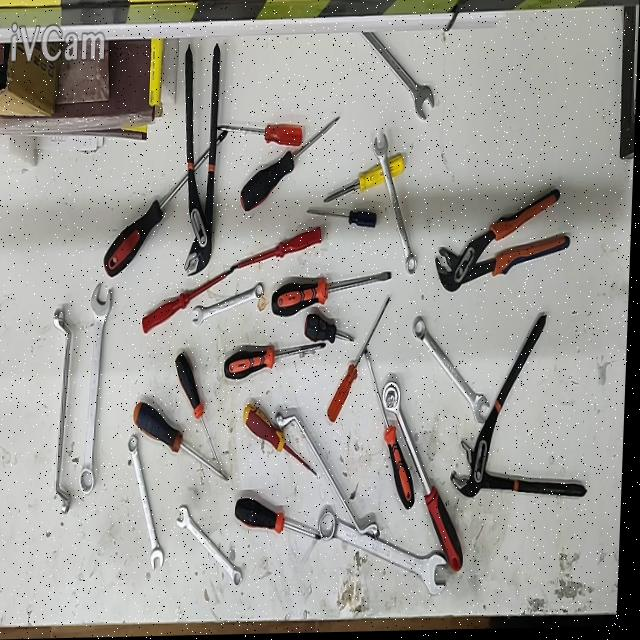Screwdriver: (106, 132, 231, 277), (243, 120, 340, 213), (367, 349, 420, 512), (330, 297, 392, 425), (136, 402, 232, 483), (145, 268, 237, 335), (246, 404, 321, 478), (274, 273, 393, 317), (178, 354, 224, 467), (324, 157, 405, 204), (227, 344, 329, 381), (238, 499, 327, 540), (236, 228, 324, 268), (219, 125, 304, 148), (308, 314, 357, 344), (308, 211, 379, 229)
